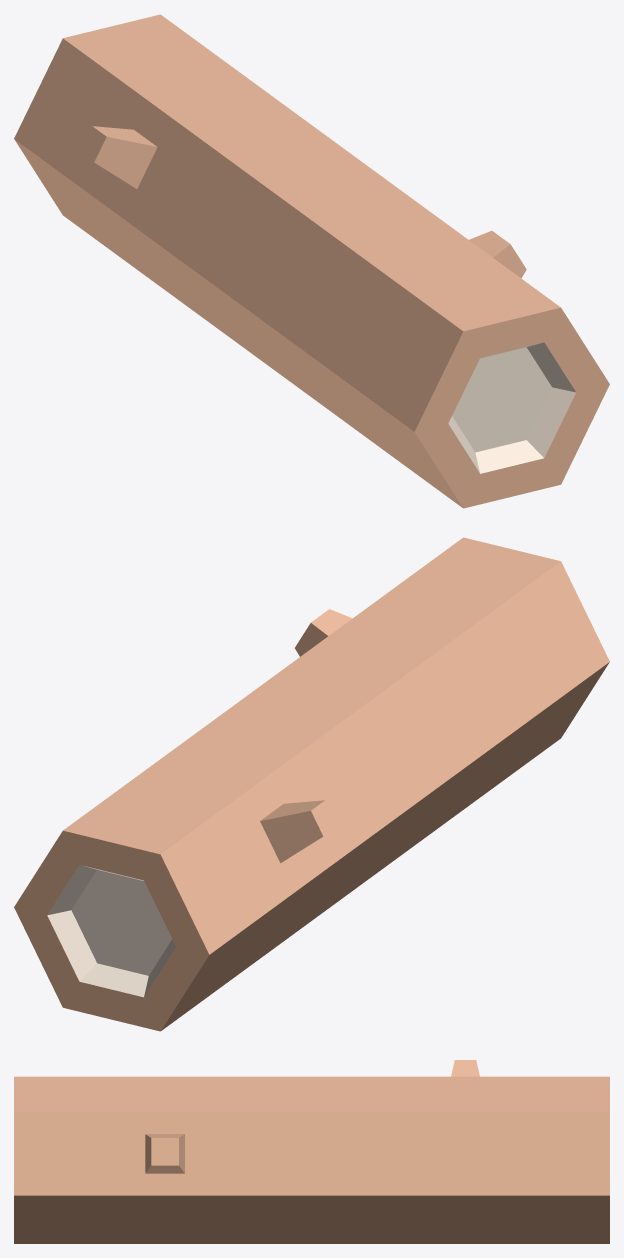
The model's file is log.gltf.
3 renders of one model, top to bottom at view 1: azimuth 30°, elevation 25°; view 2: azimuth 150°, elevation 25°; view 3: azimuth 270°, elevation 25°, orthographic. The views are drawn at different scales.
Parts seen in each view (by area): view 1: log; view 2: log; view 3: log.
Part boxes in pixels (<box>): log: <box>14,14,609,508</box>; log: <box>14,537,609,1031</box>; log: <box>14,1060,609,1243</box>.
Size of the model in its own units: 0.234 by 0.1732 by 0.71.
